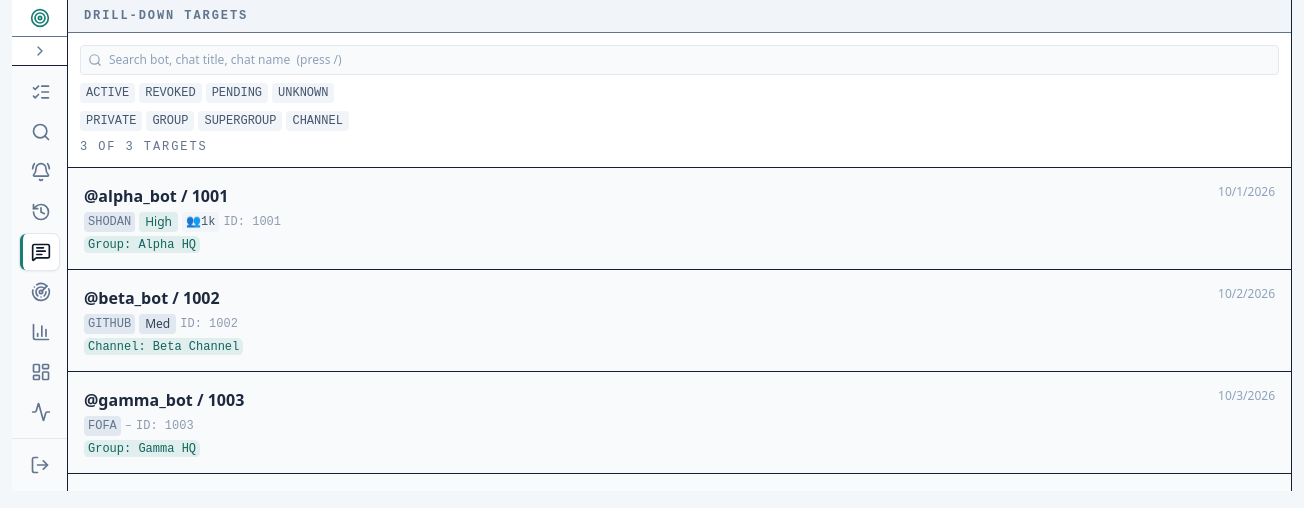
Test case: Sidebar › shows the zero-match empty state when the query matches nothing
Expected: the text "3 of 3 targets" is shown, x1=80 y1=140 x2=208 y2=154
Step 1. Type "zzz-no-such" into the search field named "Search targets" → [680, 60], box x1=80 y1=45 x2=1279 y2=75
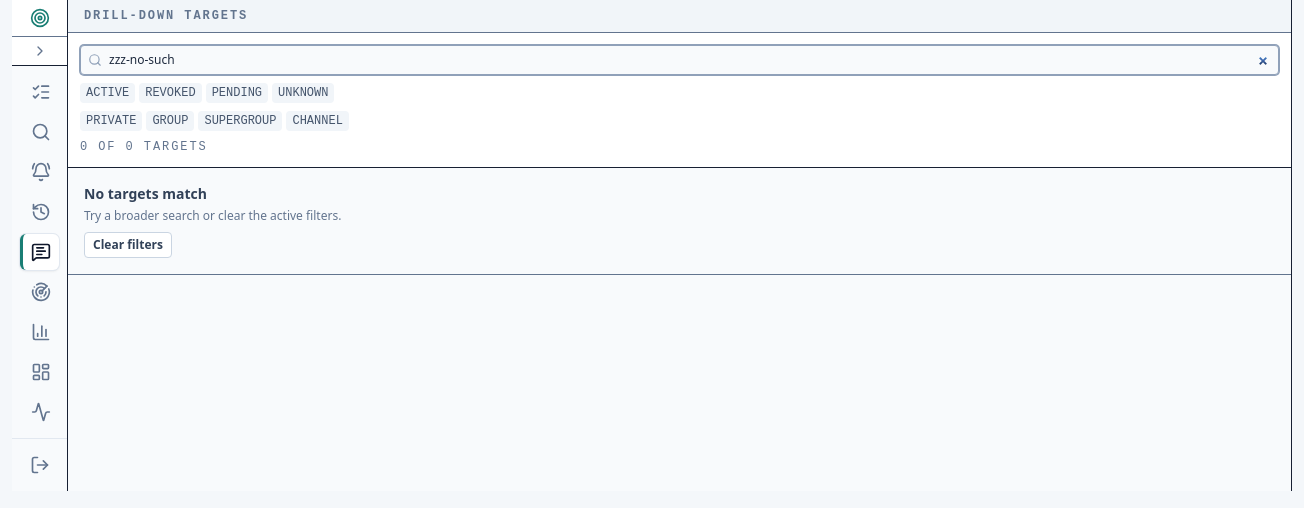
Result: the text "0 of 0 targets" is shown at x1=80 y1=140 x2=208 y2=154
Result: the text "No targets match" is shown at x1=84 y1=184 x2=207 y2=203
